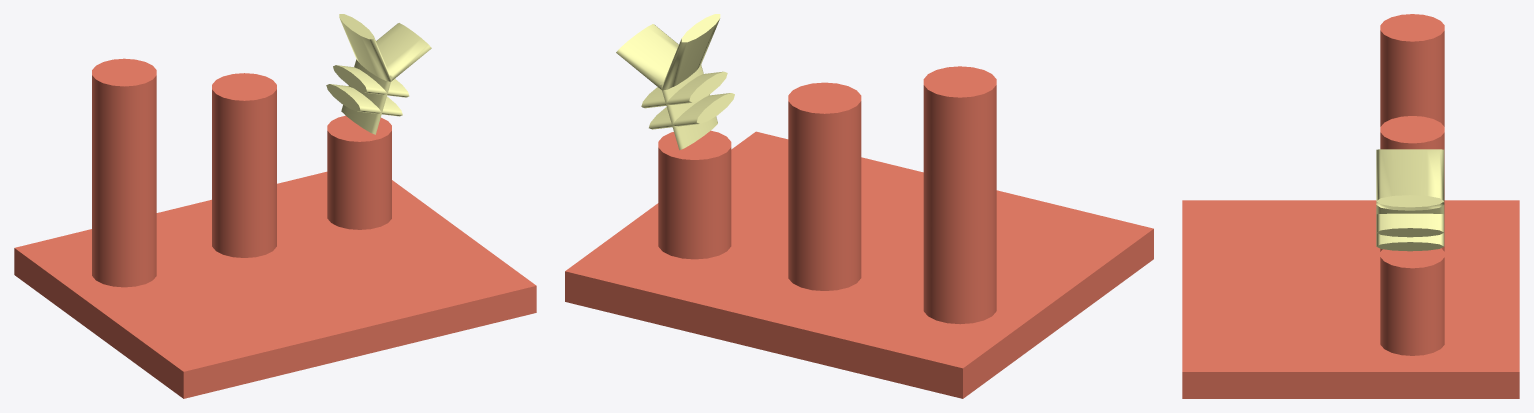
The picture shows the model from 3 angles, left to right: view 1: azimuth 30°, elevation 25°; view 2: azimuth 150°, elevation 25°; view 3: azimuth 270°, elevation 25°; orthographic projection. The views are drawn at different scales.
Parts seen in each view (by area): view 1: node_Box003_-12218, node_Cylinder006_-12222, node_Cylinder007_-12224, node_Cylinder005_-12220, node_money_-12212; view 2: node_Box003_-12218, node_Cylinder006_-12222, node_Cylinder007_-12224, node_Cylinder005_-12220, node_money_-12212; view 3: node_Box003_-12218, node_money_-12212, node_Cylinder005_-12220, node_Cylinder006_-12222, node_Cylinder007_-12224.
Boxes of the visible parts, x1,y1,x2,y2 form: node_Box003_-12218: (14, 171, 536, 398); node_Cylinder006_-12222: (92, 58, 156, 287); node_Cylinder007_-12224: (212, 73, 276, 257); node_Cylinder005_-12220: (327, 115, 391, 229); node_money_-12212: (326, 14, 431, 134); node_Box003_-12218: (565, 131, 1153, 398); node_Cylinder006_-12222: (923, 66, 996, 324); node_Cylinder007_-12224: (788, 82, 861, 290); node_Cylinder005_-12220: (658, 130, 731, 259); node_money_-12212: (616, 14, 734, 150); node_Box003_-12218: (1182, 200, 1519, 398); node_money_-12212: (1376, 149, 1444, 251); node_Cylinder005_-12220: (1380, 248, 1444, 355); node_Cylinder006_-12222: (1380, 14, 1444, 126); node_Cylinder007_-12224: (1380, 116, 1444, 251).
Size of the model in its own units: 0.0597 by 0.0368 by 0.0496.
